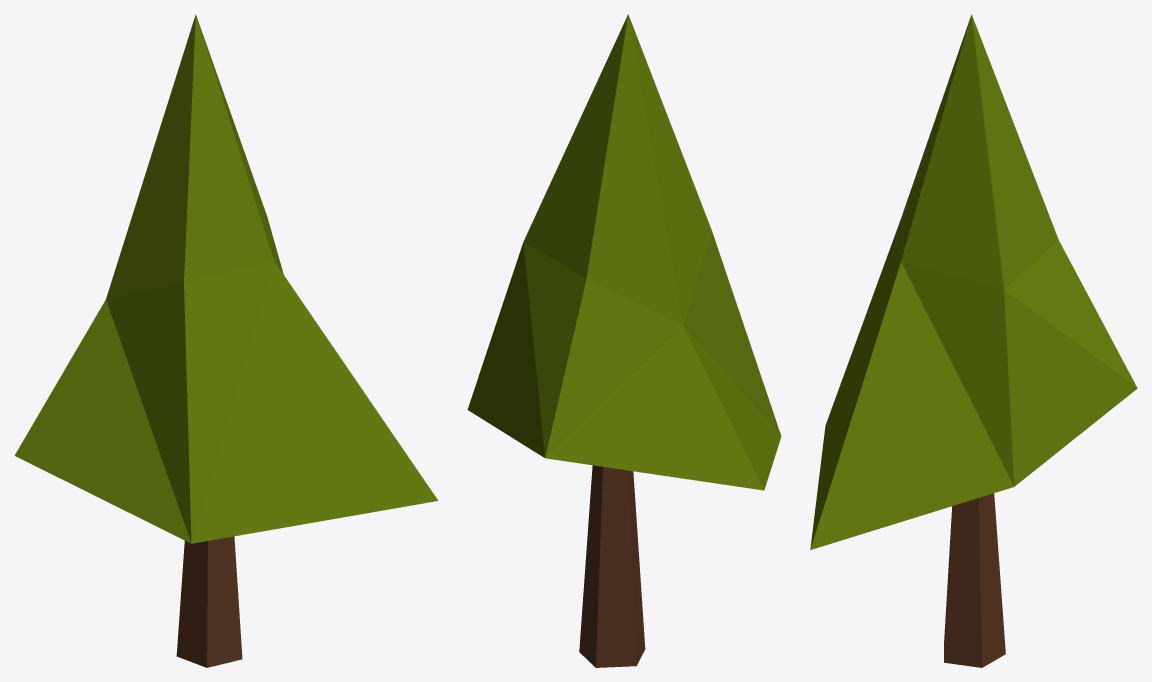
File: Hemp1.fbx
The picture shows the model from 3 angles, left to right: view 1: azimuth 30°, elevation 25°; view 2: azimuth 150°, elevation 25°; view 3: azimuth 270°, elevation 25°; orthographic projection.
Visible parts, largest first — view 1: Hemp1; view 2: Hemp1; view 3: Hemp1.
Part boxes in pixels (left/top/right/bottom): Hemp1: left=14, top=14, right=438, bottom=667; Hemp1: left=467, top=14, right=781, bottom=667; Hemp1: left=810, top=14, right=1137, bottom=667.
Bounding box in the file's own units: 18.84 × 36.26 × 17.
